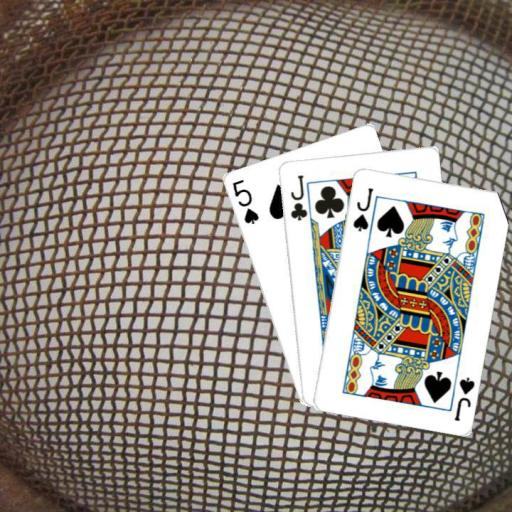5S: (229, 176, 261, 226)
JC: (287, 171, 309, 222)
JS: (349, 184, 374, 233), (451, 374, 476, 422)
